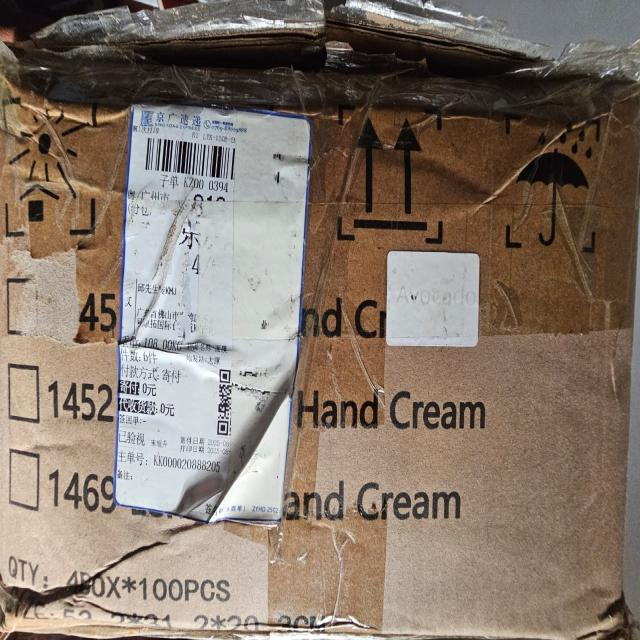carton_box: (0, 0, 640, 640)
export_mark_label: (112, 87, 308, 525)
keep_dry_label: (486, 83, 619, 265)
package_damage: (2, 3, 640, 138), (0, 548, 130, 639), (588, 577, 638, 639)
protect_from_heat_label: (0, 91, 99, 236)
this_side_up_label: (332, 83, 459, 250)
